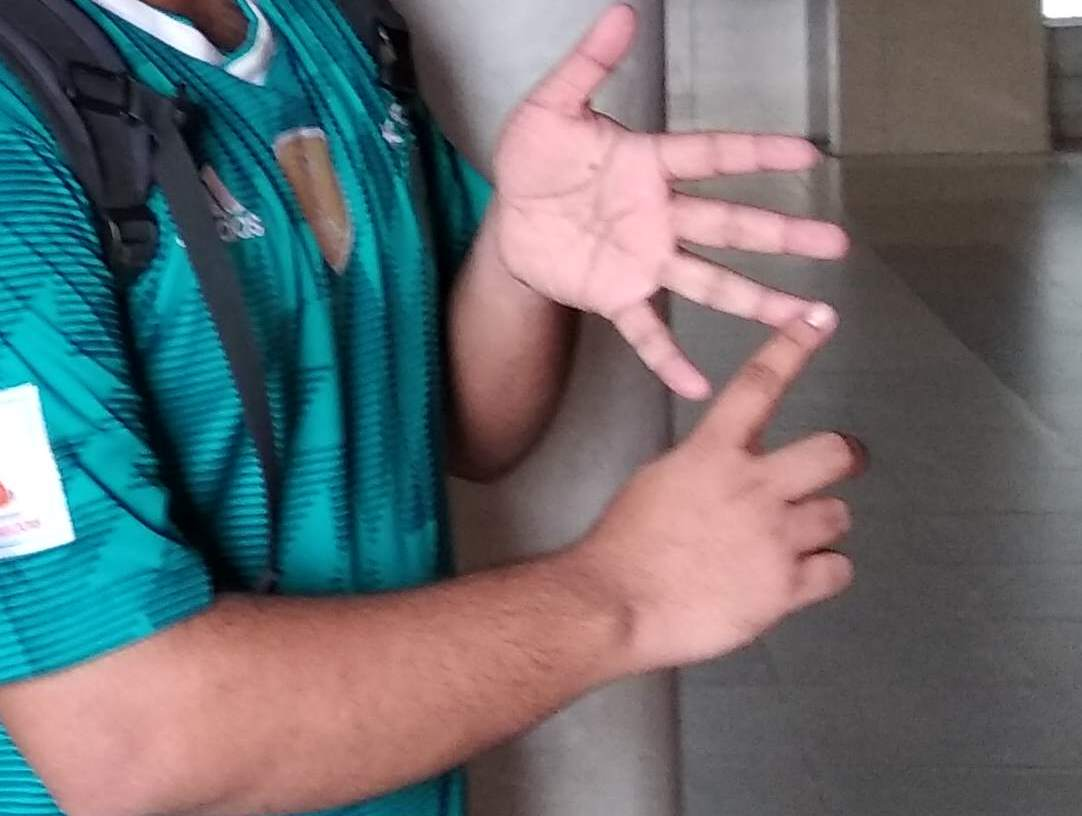e: (549, 92, 868, 620)
